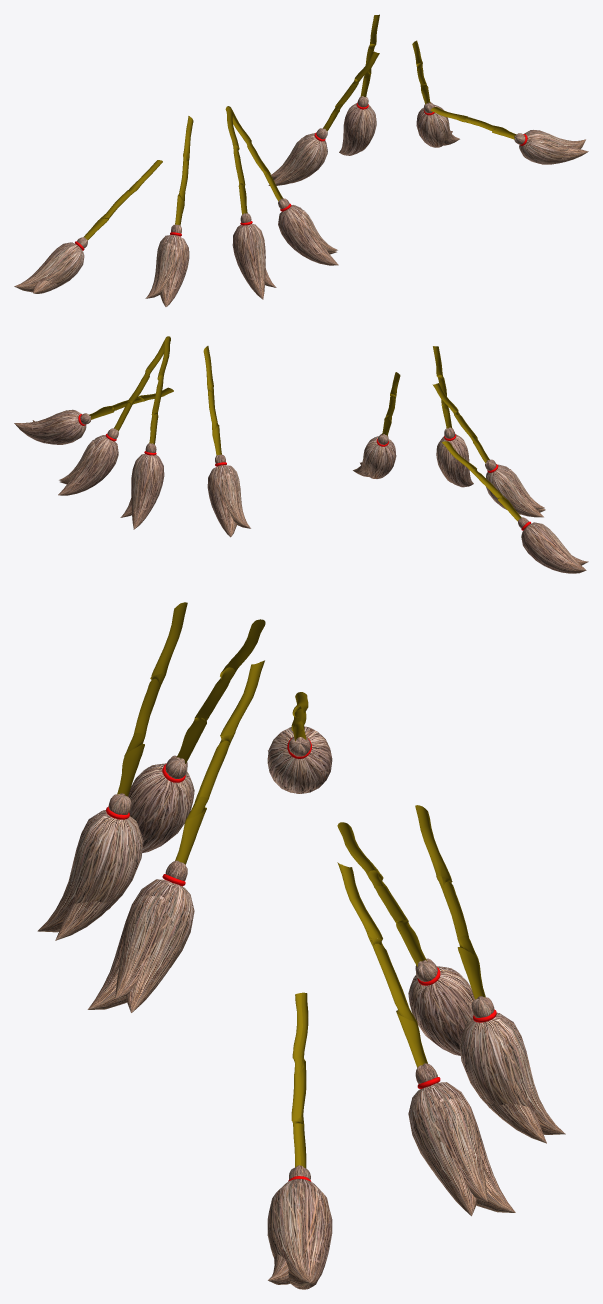
File: broom.glb
The picture shows the model from 3 angles, top to bottom: view 1: azimuth 30°, elevation 25°; view 2: azimuth 150°, elevation 25°; view 3: azimuth 270°, elevation 25°; orthographic projection. The views are drawn at different scales.
Visible parts, largest first — view 1: Node; view 2: Node; view 3: Node.
Boxes of the visible parts, left/top/right/bottom form: Node: left=14, top=14, right=588, bottom=306; Node: left=14, top=336, right=588, bottom=573; Node: left=37, top=602, right=565, bottom=1289.
Bounding box in the file's own units: 578 × 161 × 231.
Materials: 3 (1 with a texture image).
